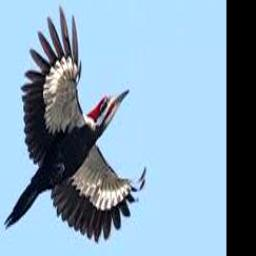Woodpecker: (4, 4, 146, 241)
